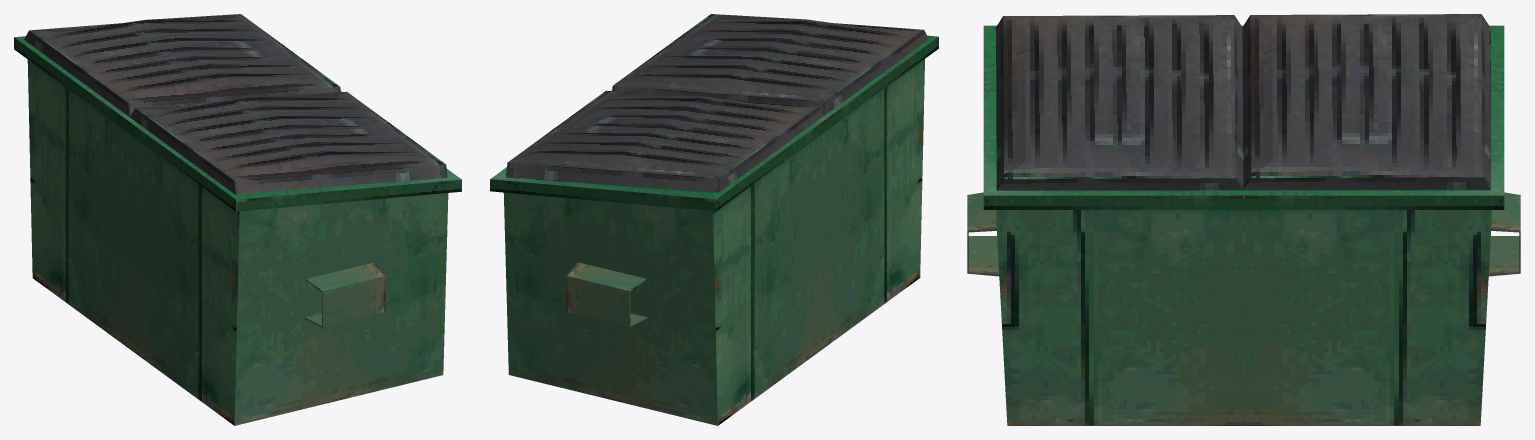
Rendered from dumpster_diagonal_closed.glb.
3 renders of one model, left to right at view 1: azimuth 30°, elevation 25°; view 2: azimuth 150°, elevation 25°; view 3: azimuth 270°, elevation 25°, orthographic. The views are drawn at different scales.
Visible parts, largest first — view 1: dumpster_diagonal_closed; view 2: dumpster_diagonal_closed; view 3: dumpster_diagonal_closed.
Part boxes in pixels (<box>): dumpster_diagonal_closed: <box>14,14,461,425</box>; dumpster_diagonal_closed: <box>490,14,938,425</box>; dumpster_diagonal_closed: <box>967,14,1520,425</box>.
Size of the model in its own units: 2.03 by 2.13 by 3.67.
Materials: 1 (1 with a texture image).
